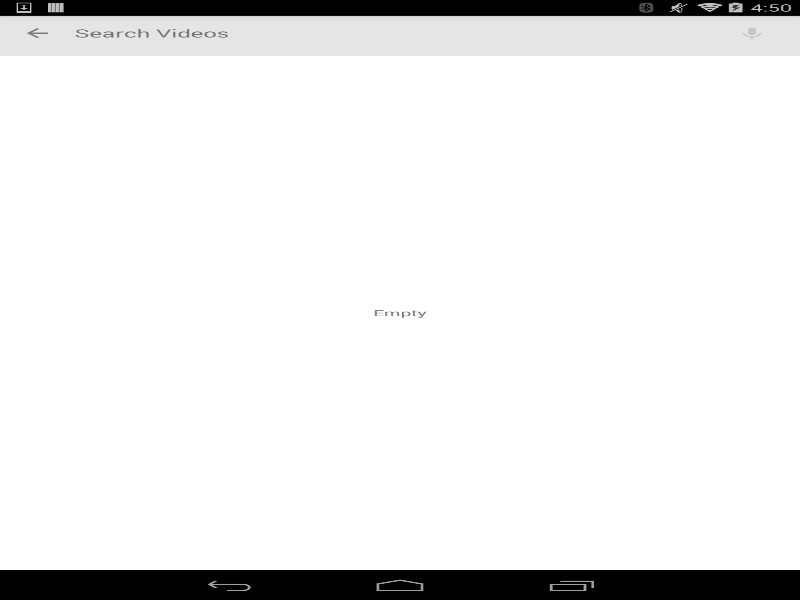Input: (64, 21, 714, 44)
